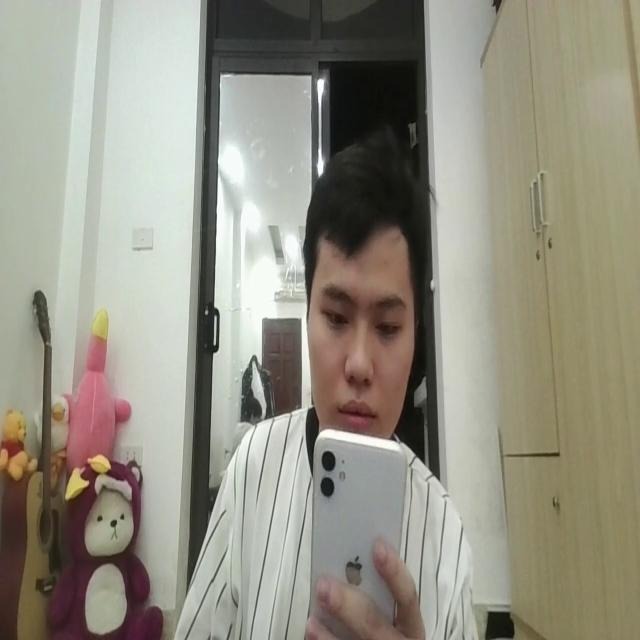phone: (310, 419, 407, 640)
student: (178, 139, 478, 640)
